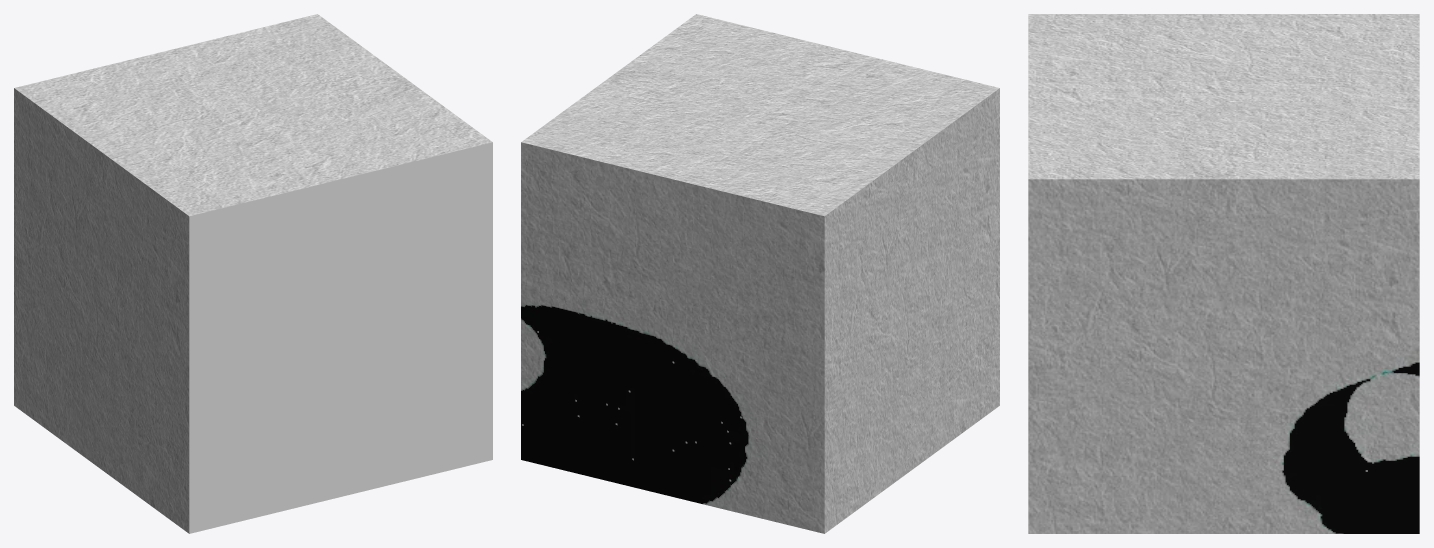
Rendered from MobMiniV3-transformed.glb.
The picture shows the model from 3 angles, left to right: view 1: azimuth 30°, elevation 25°; view 2: azimuth 150°, elevation 25°; view 3: azimuth 270°, elevation 25°; orthographic projection. The views are drawn at different scales.
Parts seen in each view (by area): view 1: dork, eye; view 2: dork; view 3: dork.
Boxes of the visible parts, x1,y1,x2,y2 form: dork: (14,14,492,533); eye: (189,142,492,533); dork: (521,14,999,533); dork: (1028,14,1419,533).
Bounding box in the file's own units: 0.7113 × 0.7113 × 0.7113.
Materials: 2 (2 with a texture image).
